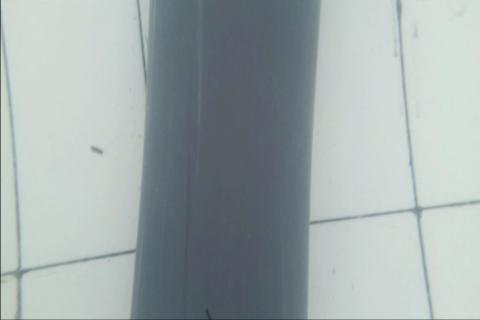keretakan: (203, 306, 213, 320)
